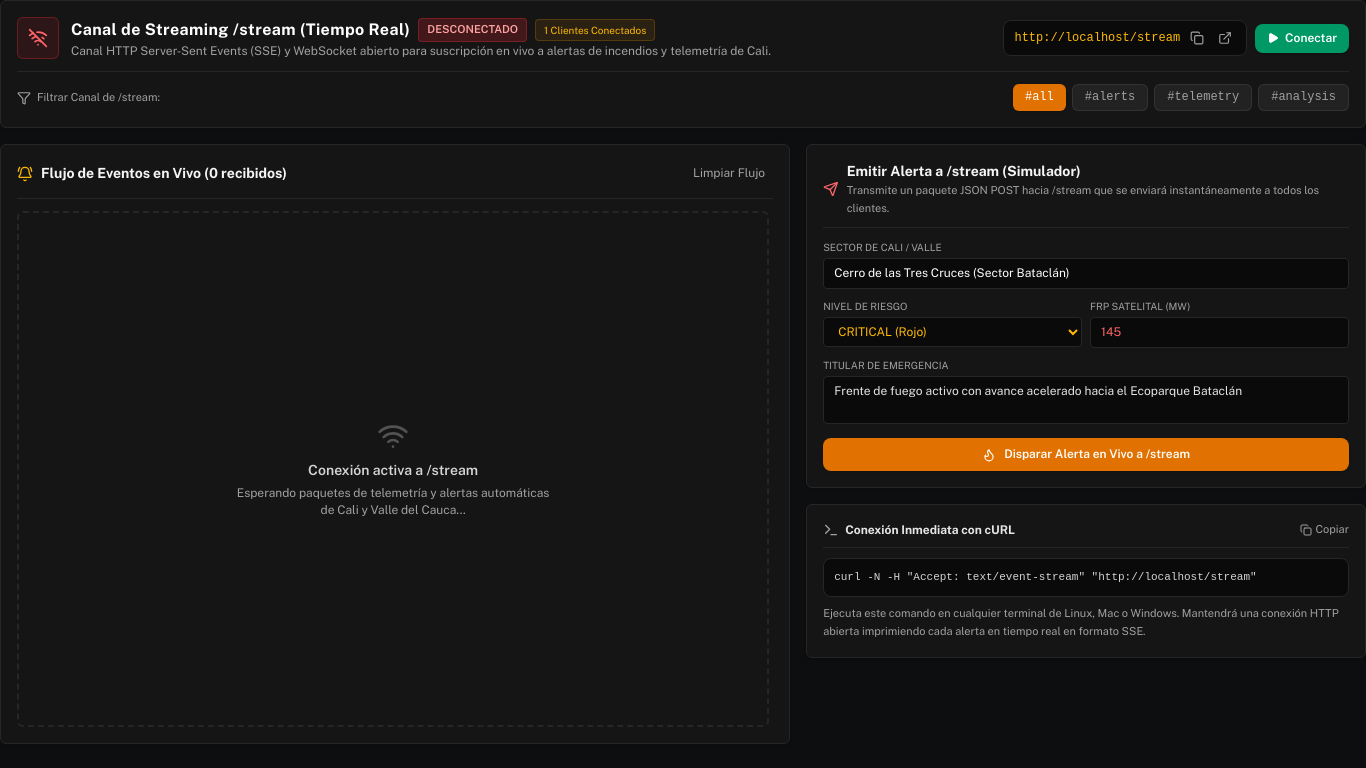
StreamLiveChannel › si la red falla lo comunica explícitamente
Click the button "Disparar Alerta en Vivo a /stream": (1086,455) [823,438,1349,471]
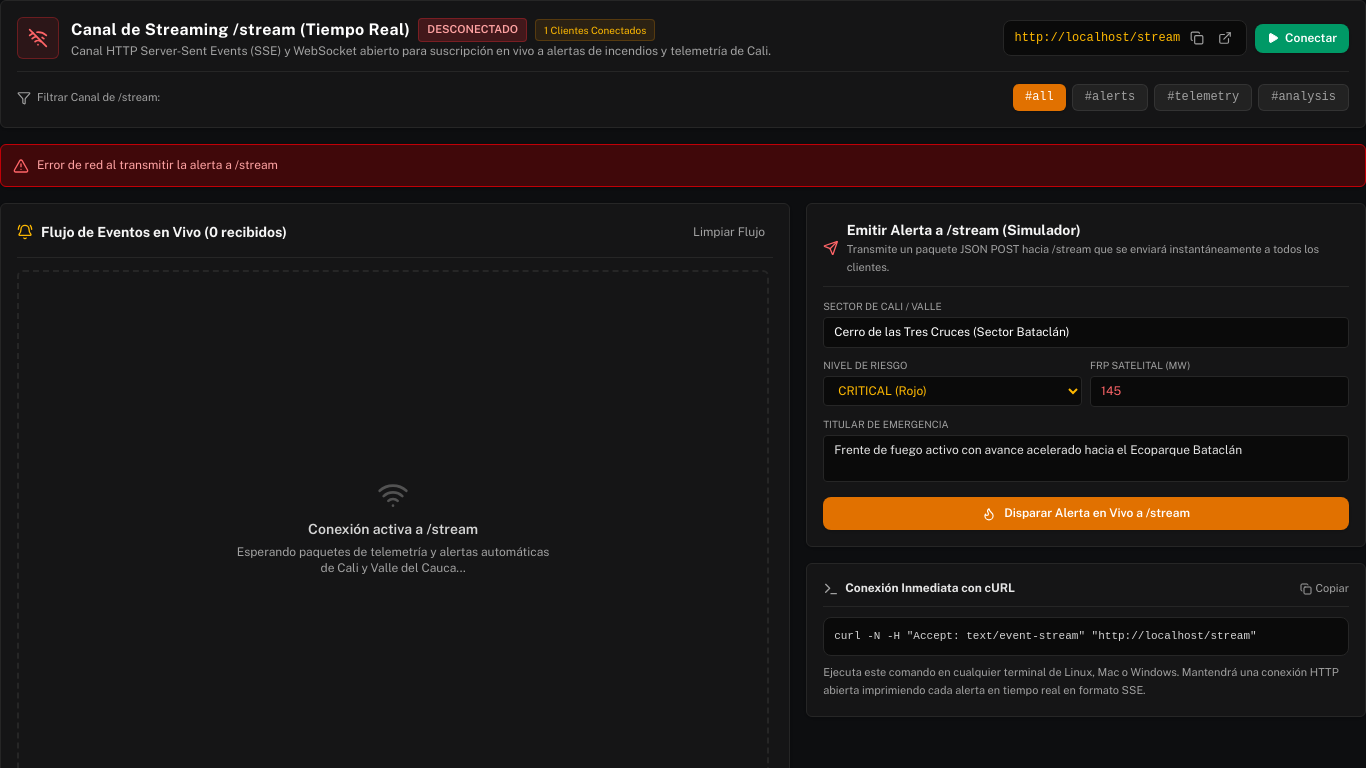
Check: the message shows "Error de red al transmitir la alerta", box [37,158,278,172]
